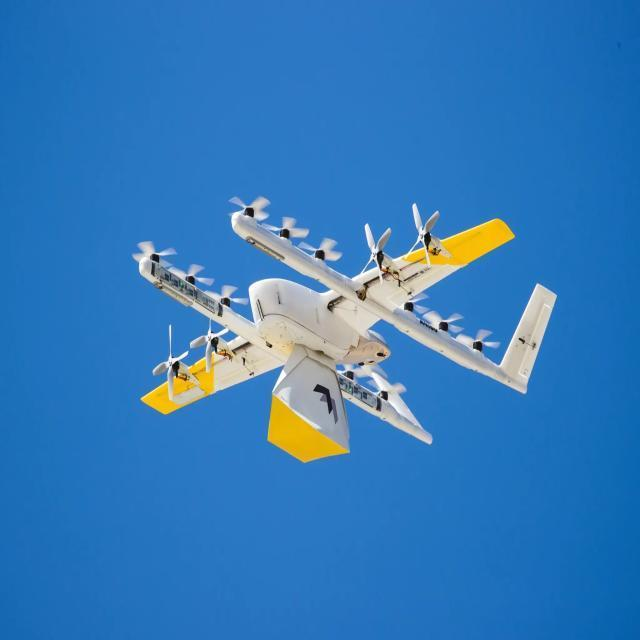iha: (111, 182, 562, 462)
